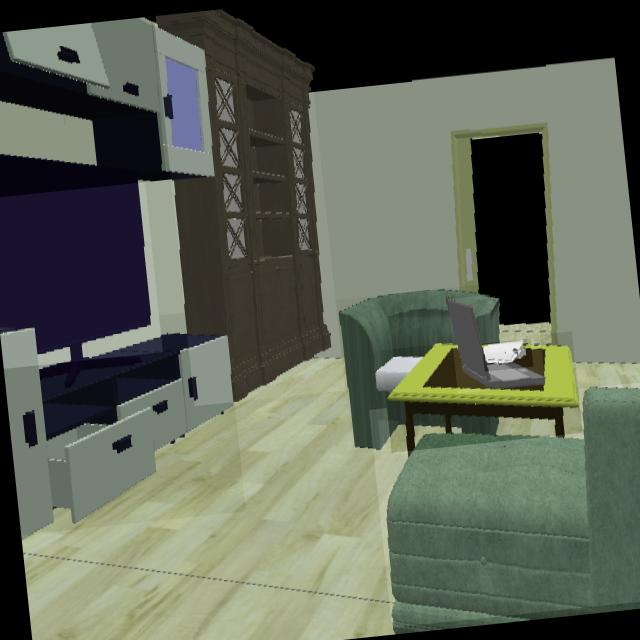book: (482, 339, 531, 368)
bookshelf: (156, 9, 327, 401)
cabinet: (0, 329, 234, 534), (0, 17, 217, 175)
laptop: (448, 300, 545, 388)
monitor: (0, 154, 151, 361)
sofa: (387, 387, 640, 627), (338, 290, 500, 450)
table: (385, 346, 579, 447)
